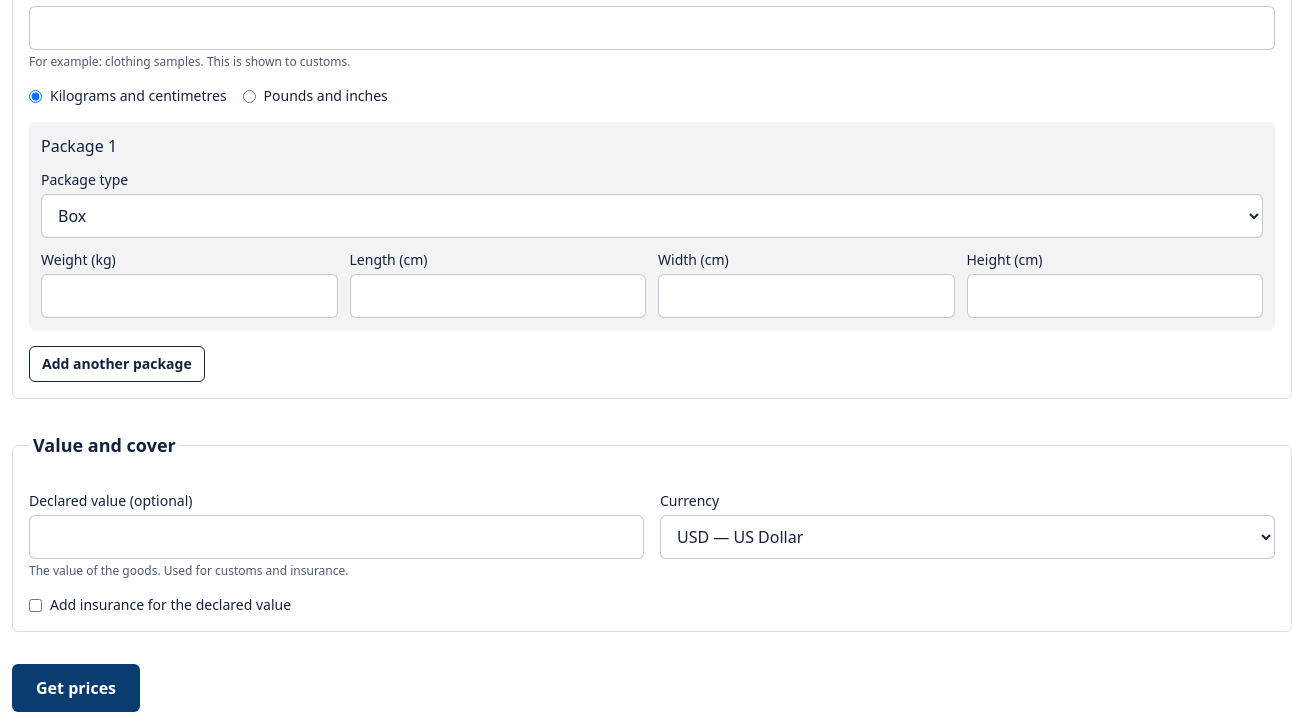
Test: QuoteForm › points at every missing field instead of sending
The width and height of the screenshot is (1292, 712).
(page scrolled)
Click the button "Get prices": click(76, 688) [12, 664, 140, 711]
(page scrolled)
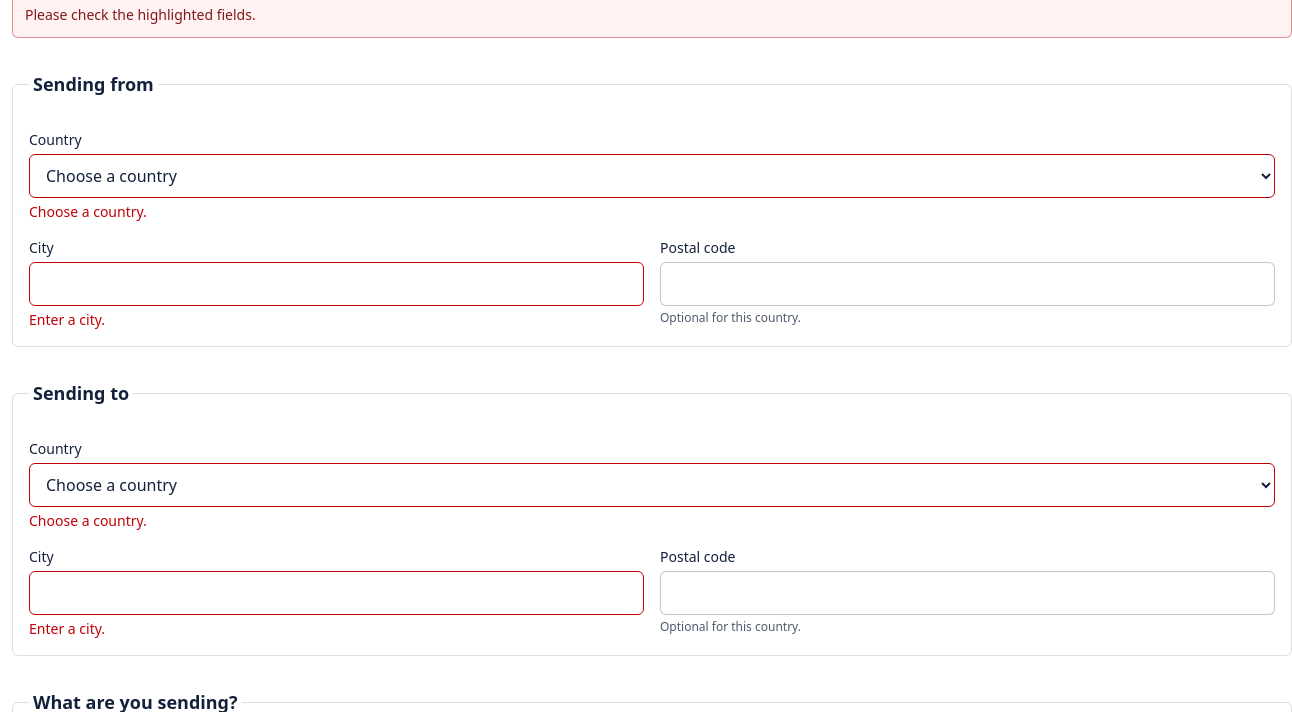
Check: the message shows "check the highlighted fields", box [25, 5, 256, 24]
